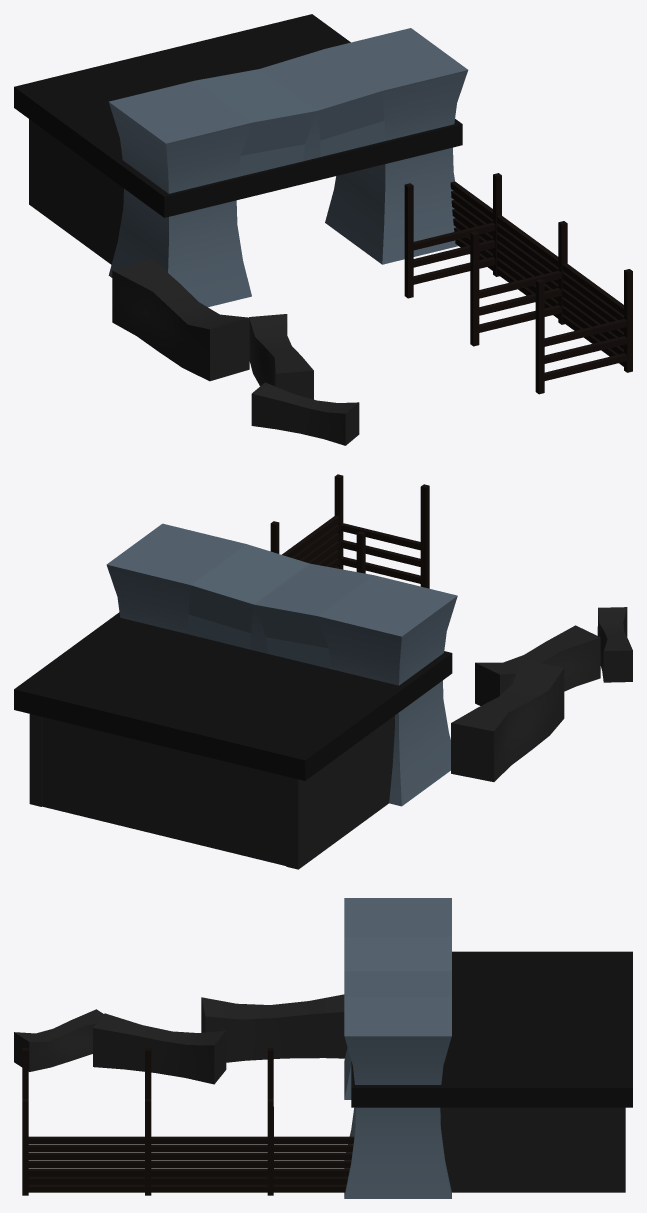
The model's file is Stable_Stage_4.FBX.
3 renders of one model, top to bottom at view 1: azimuth 30°, elevation 25°; view 2: azimuth 150°, elevation 25°; view 3: azimuth 270°, elevation 25°, orthographic. The views are drawn at different scales.
Visible parts, largest first — view 1: Box033; view 2: Box033; view 3: Box033.
Boxes of the visible parts, x1,y1,x2,y2 form: Box033: (14, 14, 632, 445); Box033: (14, 474, 632, 869); Box033: (14, 898, 632, 1198).
Bounding box in the file's own units: 121 × 57.82 × 199.
